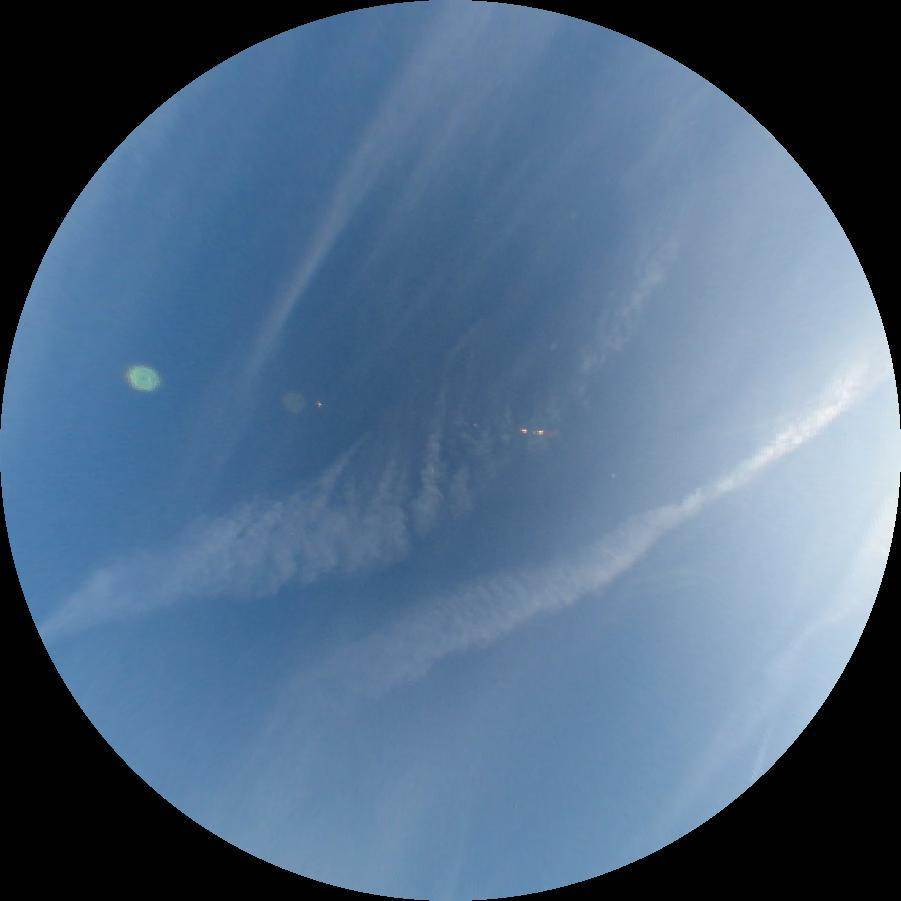contrail veryold: (28, 106, 794, 770)
contrail young: (748, 700, 782, 786)
